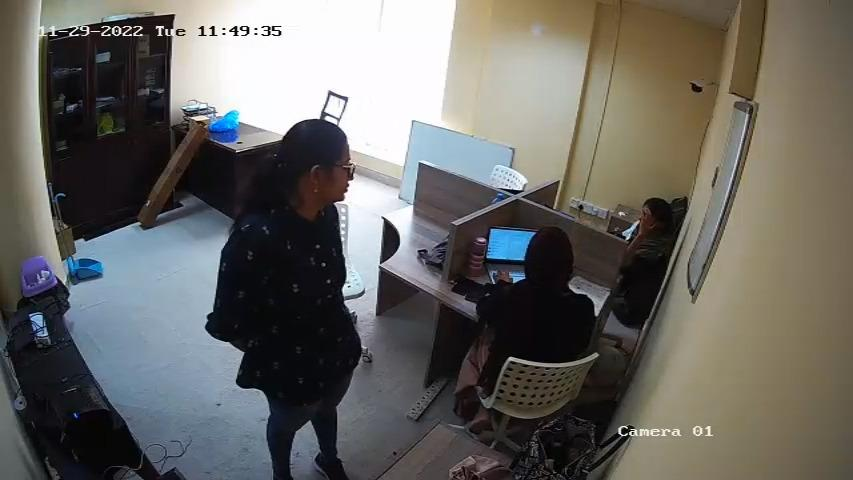no_apron: (258, 210, 343, 395)
